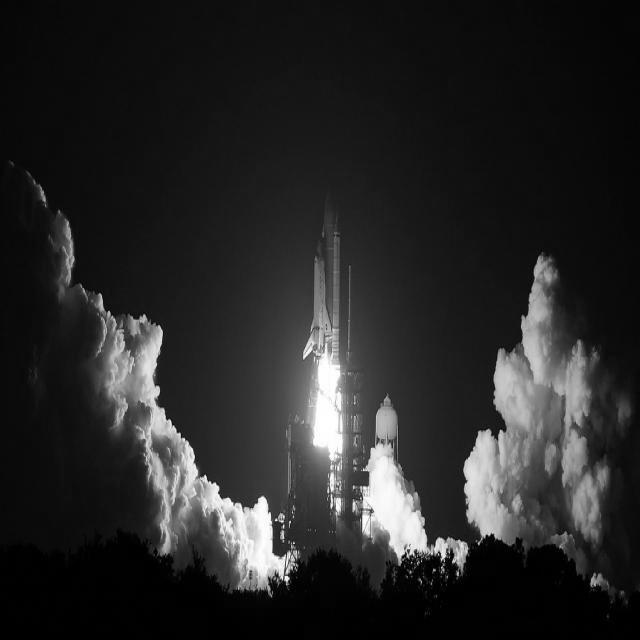missile: (331, 211, 342, 365)
